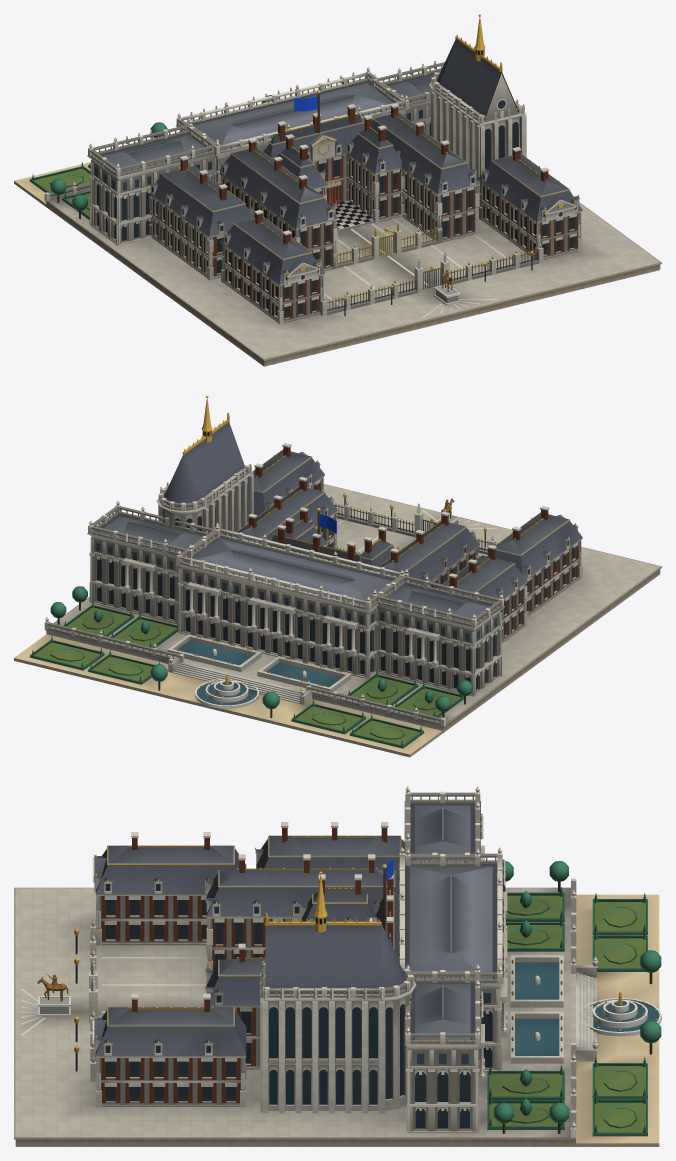
Rendered from lm_versay.glb.
3 renders of one model, top to bottom at view 1: azimuth 30°, elevation 25°; view 2: azimuth 150°, elevation 25°; view 3: azimuth 270°, elevation 25°, orthographic. The views are drawn at different scales.
Visible parts, largest first — view 1: lm_versay; view 2: lm_versay; view 3: lm_versay.
Boxes of the visible parts, bbox=[...] form: lm_versay: bbox=[14, 14, 661, 366]; lm_versay: bbox=[14, 395, 661, 757]; lm_versay: bbox=[14, 786, 661, 1146].
Size of the model in its own units: 2.14 by 0.942 by 2.34.
1 material, 1 textured.
